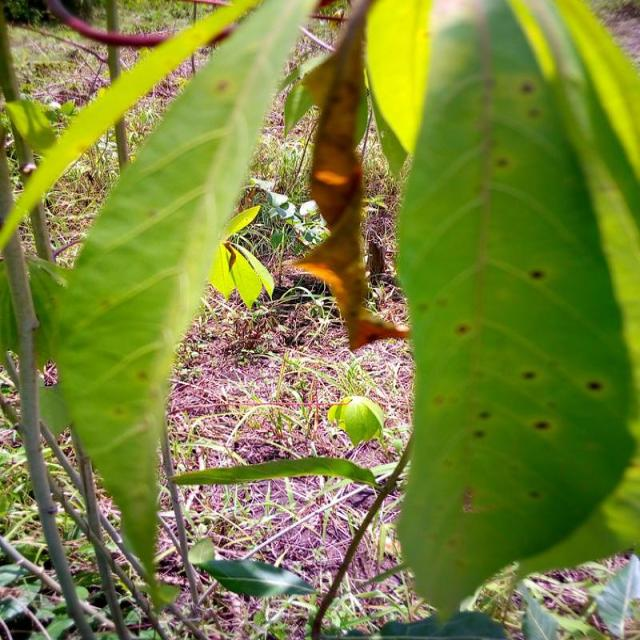cassava leaf: (49, 0, 321, 611), (393, 0, 638, 622)
